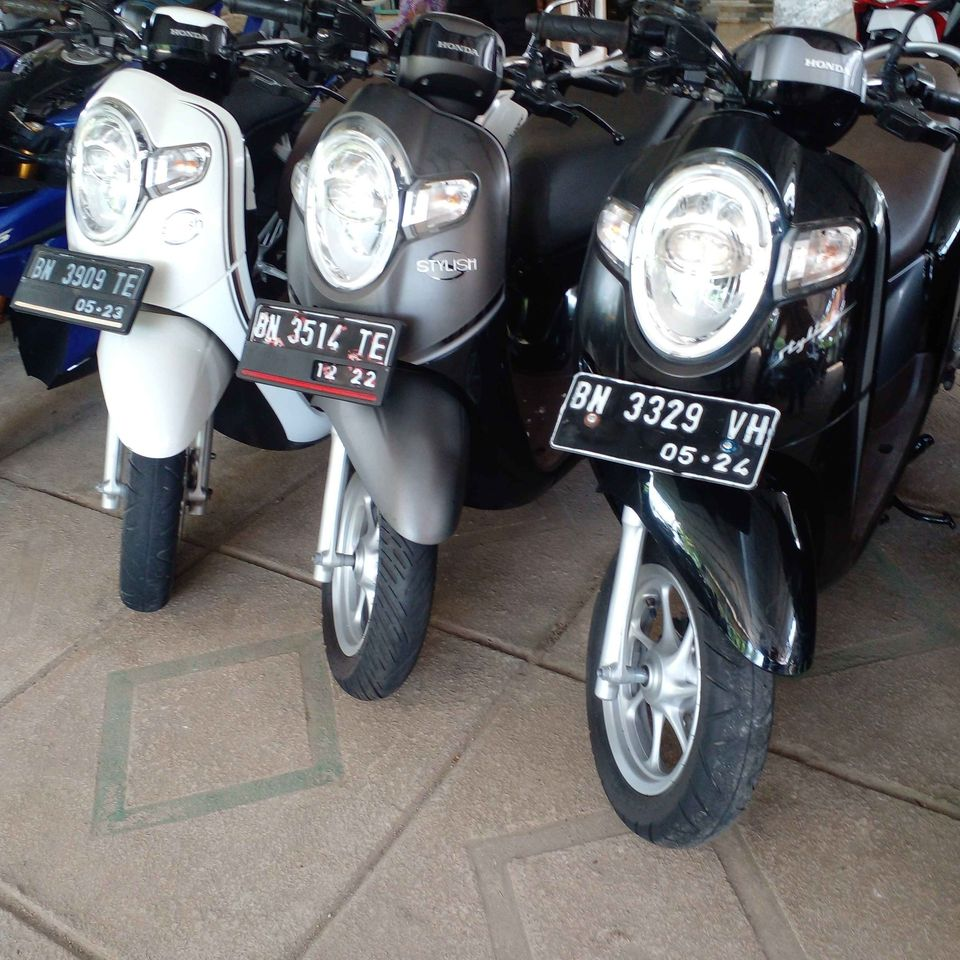plate: (561, 365, 780, 483), (233, 290, 401, 397), (14, 239, 152, 339)
